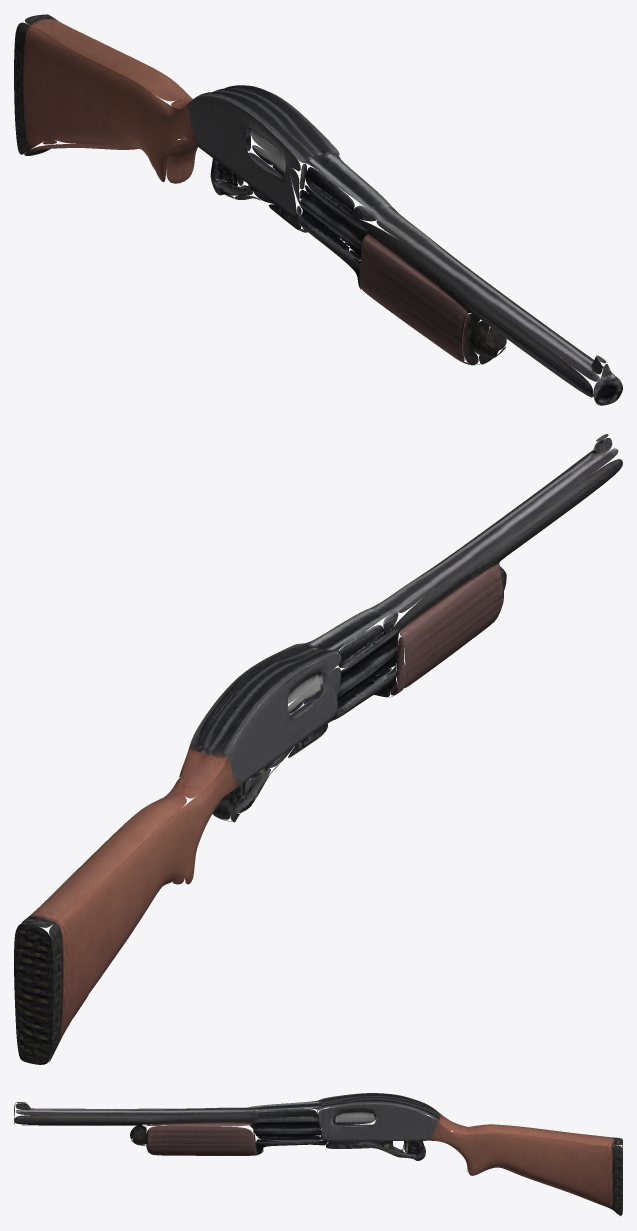
File: wpn_remington870_lod0.gltf
The picture shows the model from 3 angles, top to bottom: view 1: azimuth 30°, elevation 25°; view 2: azimuth 150°, elevation 25°; view 3: azimuth 270°, elevation 25°; orthographic projection. The views are drawn at different scales.
Visible parts, largest first — view 1: geometry_0; view 2: geometry_0; view 3: geometry_0.
Part boxes in pixels (bbox=[...]): geometry_0: bbox=[14, 14, 622, 405]; geometry_0: bbox=[14, 434, 622, 1064]; geometry_0: bbox=[14, 1093, 622, 1215].
Bounding box in the file's own units: 0.0469 × 0.2117 × 1.
1 material, 1 textured.
